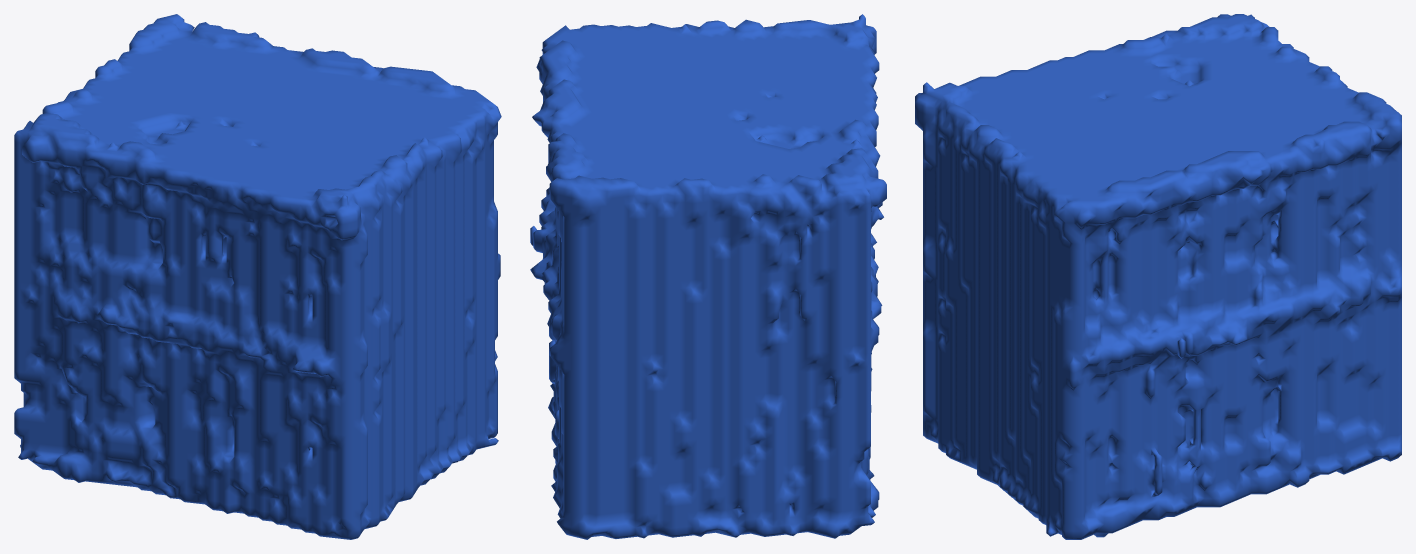
Rendered from gen5_colored.obj.
The picture shows the model from 3 angles, left to right: view 1: azimuth 30°, elevation 25°; view 2: azimuth 150°, elevation 25°; view 3: azimuth 270°, elevation 25°; orthographic projection. The views are drawn at different scales.
Visible parts, largest first — view 1: gen5.obj; view 2: gen5.obj; view 3: gen5.obj.
Part boxes in pixels (x1,y1,x2,y2): gen5.obj: (14, 14, 501, 539); gen5.obj: (530, 14, 886, 539); gen5.obj: (915, 14, 1401, 539).
Size of the model in its own units: 60 by 51 by 63.
